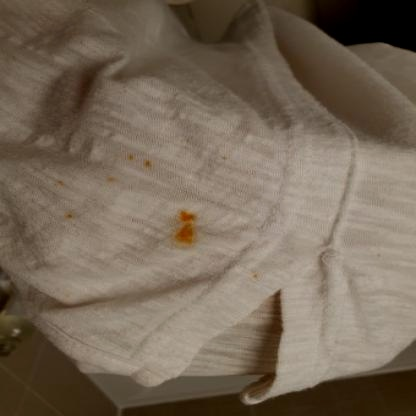kimchi: (173, 211, 195, 247), (142, 157, 155, 175), (103, 174, 120, 185), (123, 152, 138, 159), (59, 180, 69, 190), (250, 277, 261, 286), (65, 211, 75, 220), (218, 155, 227, 163)
